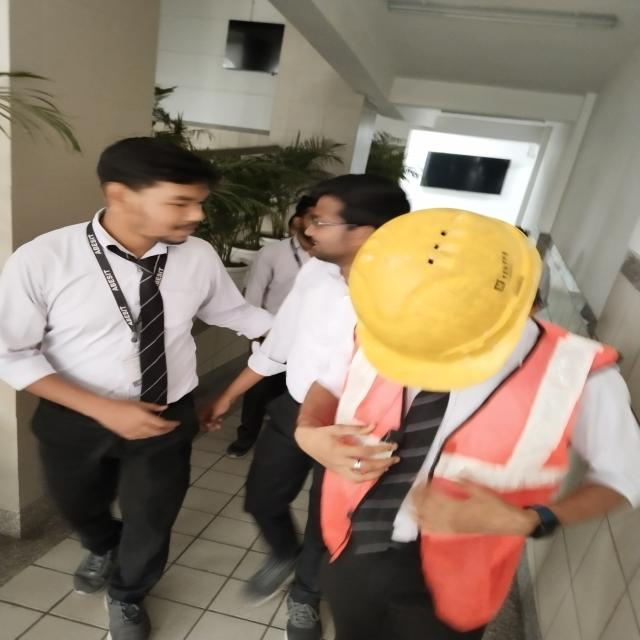safe: (314, 204, 640, 640)
unsafe: (3, 132, 237, 640), (258, 184, 388, 640)
